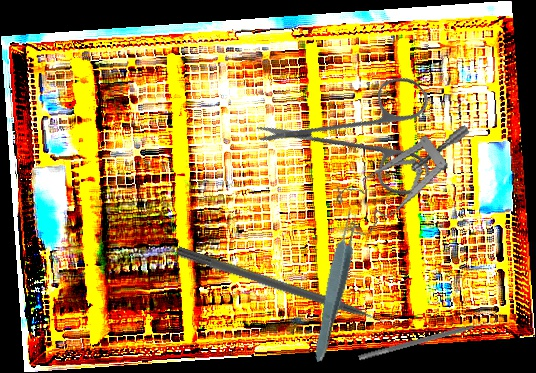Iris Scissors: (252, 26, 472, 246)
Pusher: (175, 245, 400, 334)
Spatula Surgical: (358, 317, 494, 367)
Speculum: (326, 124, 488, 240)
Tissue Forceps: (308, 206, 365, 365)
